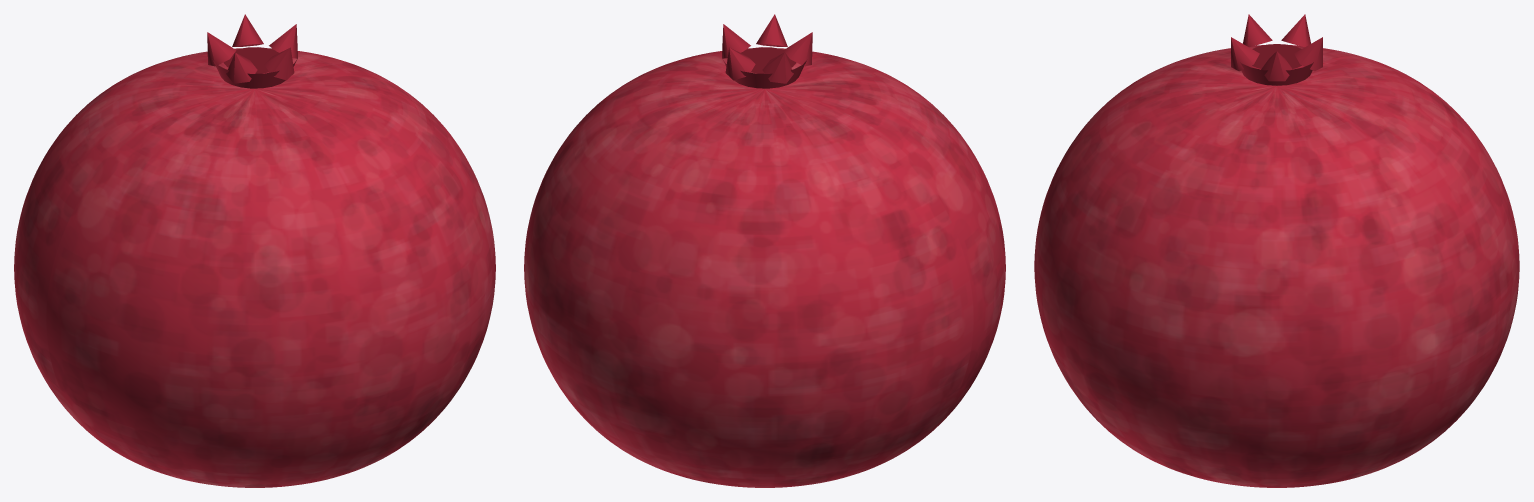
The model's file is pomegranate.glb.
3 views of the same model, side by side, from view 1: azimuth 30°, elevation 25°; view 2: azimuth 150°, elevation 25°; view 3: azimuth 270°, elevation 25° (orthographic).
Bounding box in the file's own units: 0.17 × 0.1608 × 0.17.
3 materials, 1 textured.
